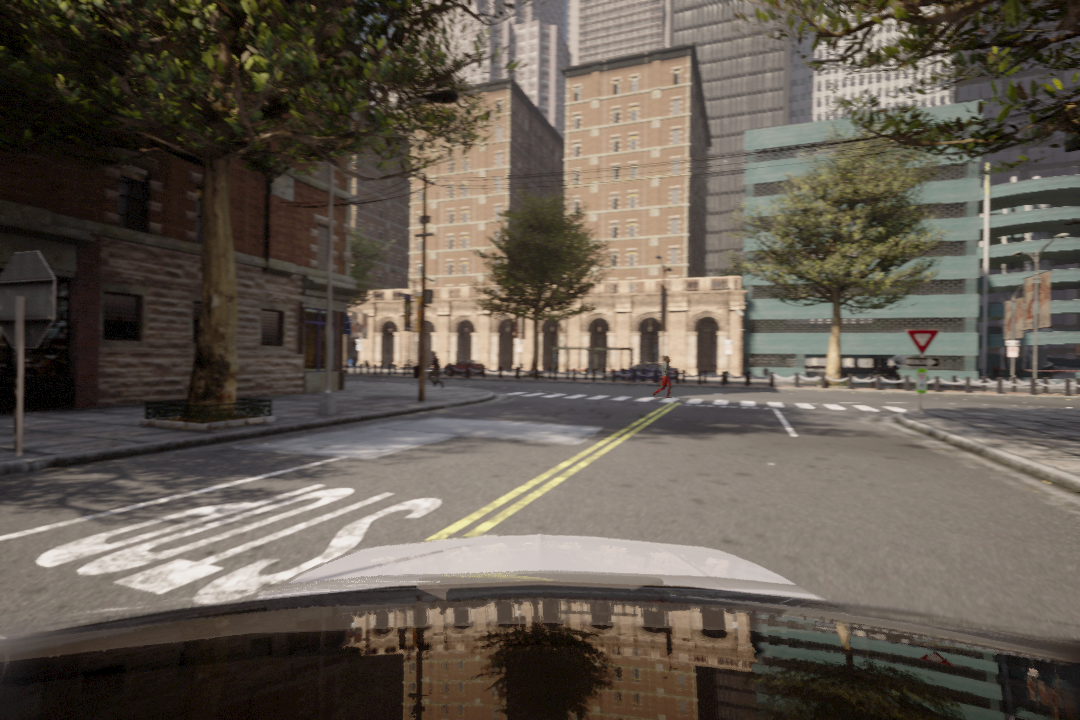walkside: (498, 388, 902, 413)
